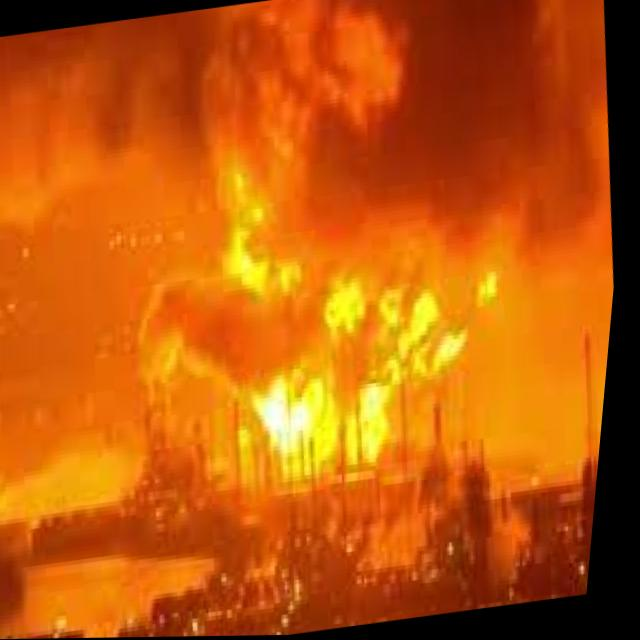Fire: (184, 195, 491, 478)
